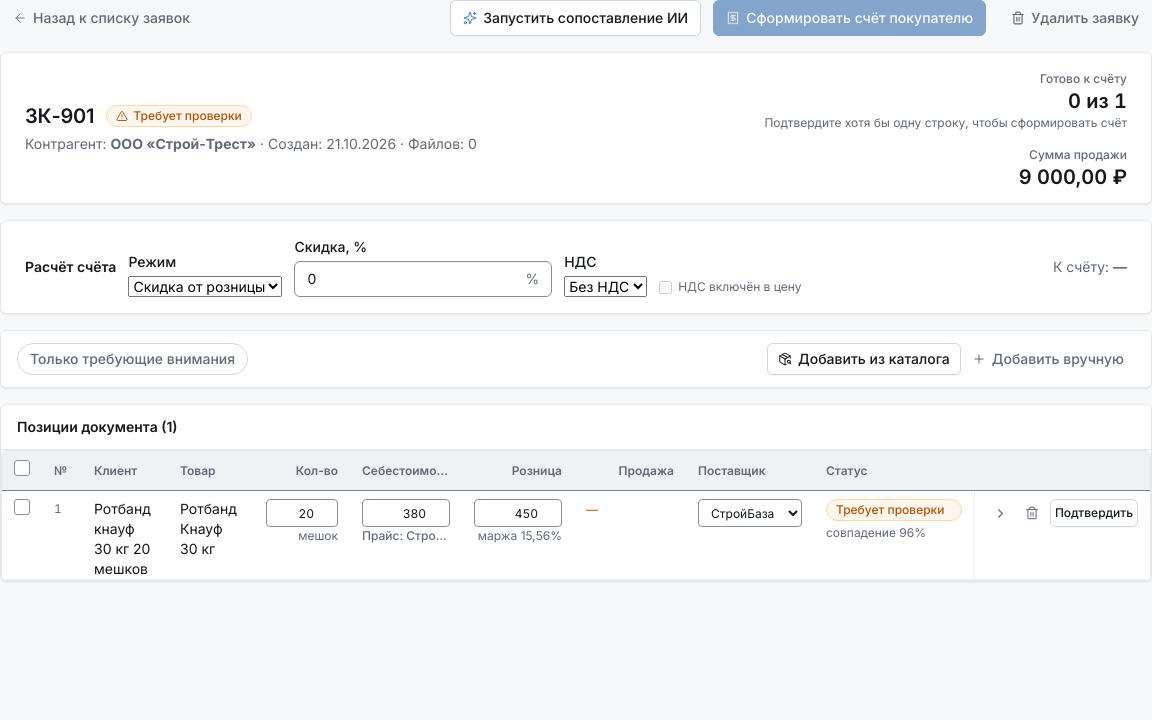
Test: Таблица позиций документа › раскрывает строку с обоснованием и альтернативами
Click the button named "Подробнее о поз. 1": (1000, 513) [986,499,1014,527]
(page scrolled)
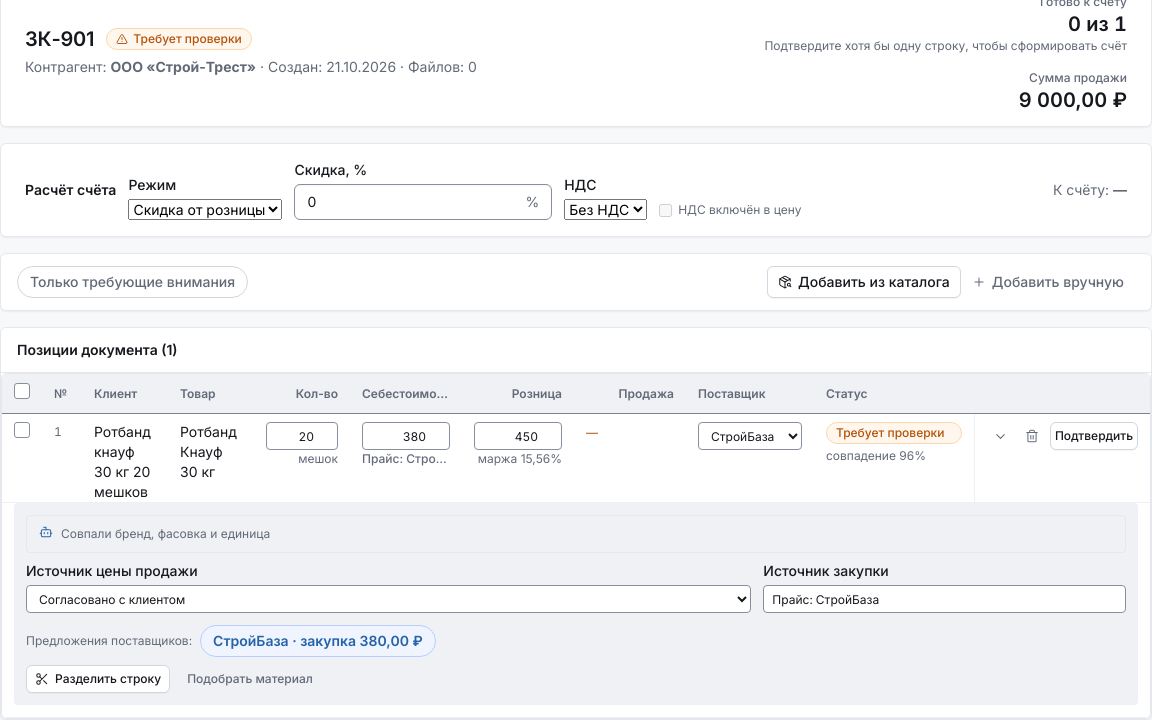
Result: the text "Совпали бренд, фасовка и единица" is shown at [61,524,270,544]
Result: the button "Разделить строку" is shown at [26,665,170,693]
